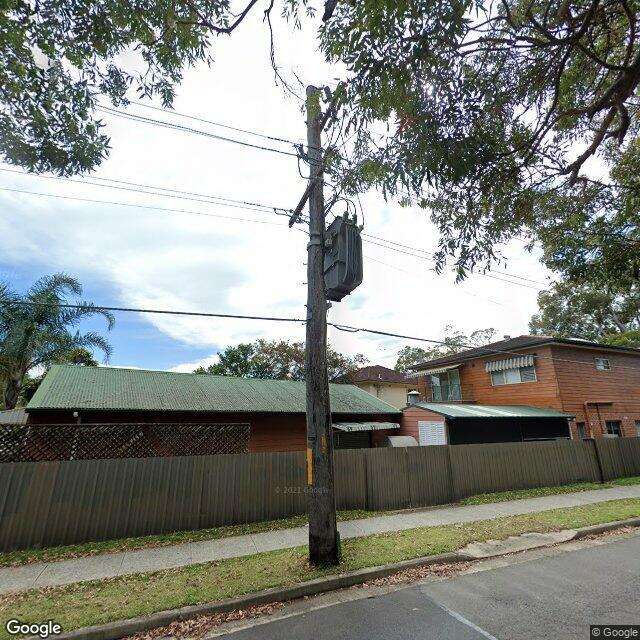HV-transmission: (298, 81, 348, 169)
crossarm: (288, 163, 327, 227), (320, 84, 344, 134)
timber-pole: (306, 84, 342, 569)
transformer: (323, 209, 365, 303)
